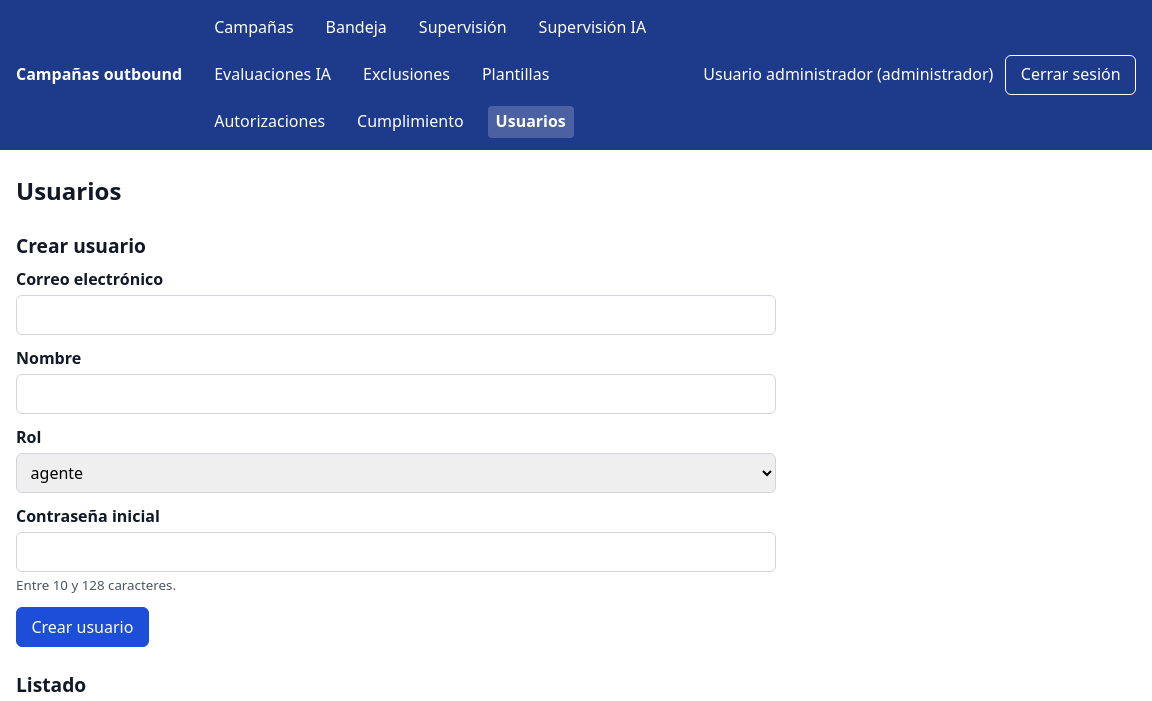
Test: Usuarios (solo administrador) › 409 EMAIL_DUPLICADO se muestra al crear
Type "a@empresa.co" into the field labelled "Correo electrónico" at (396, 315), box [16, 295, 776, 335]
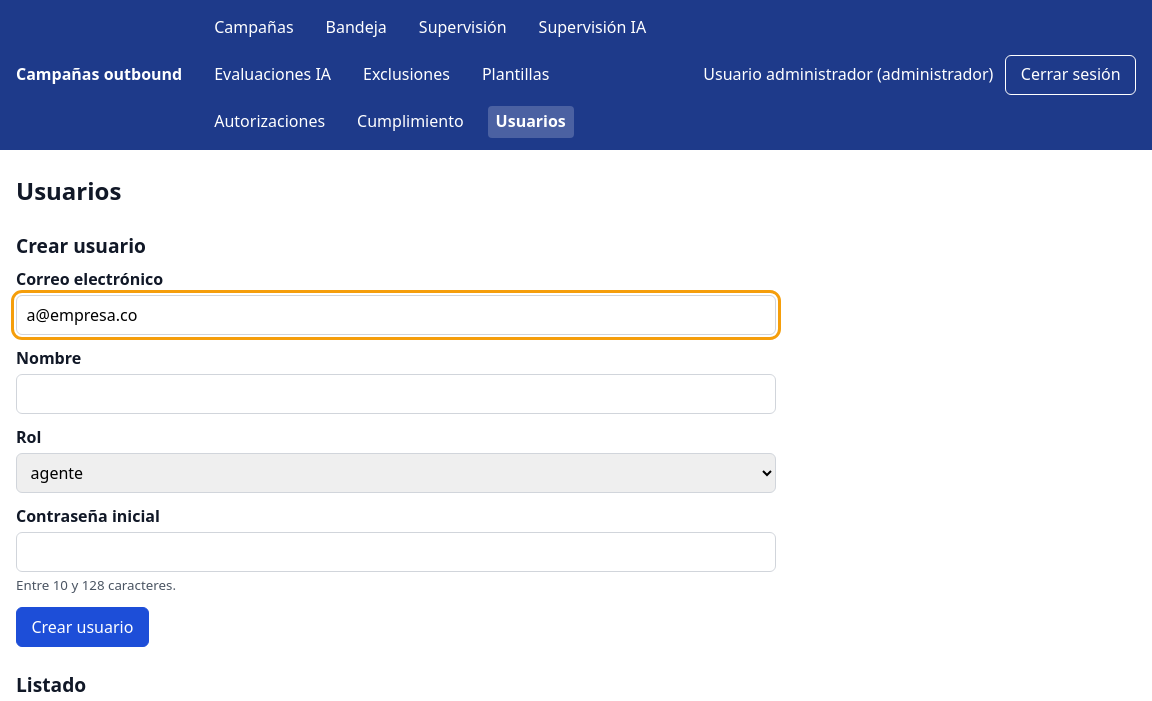
Type "Ana Gómez" into the field labelled "Nombre" at (396, 394), box [16, 374, 776, 414]
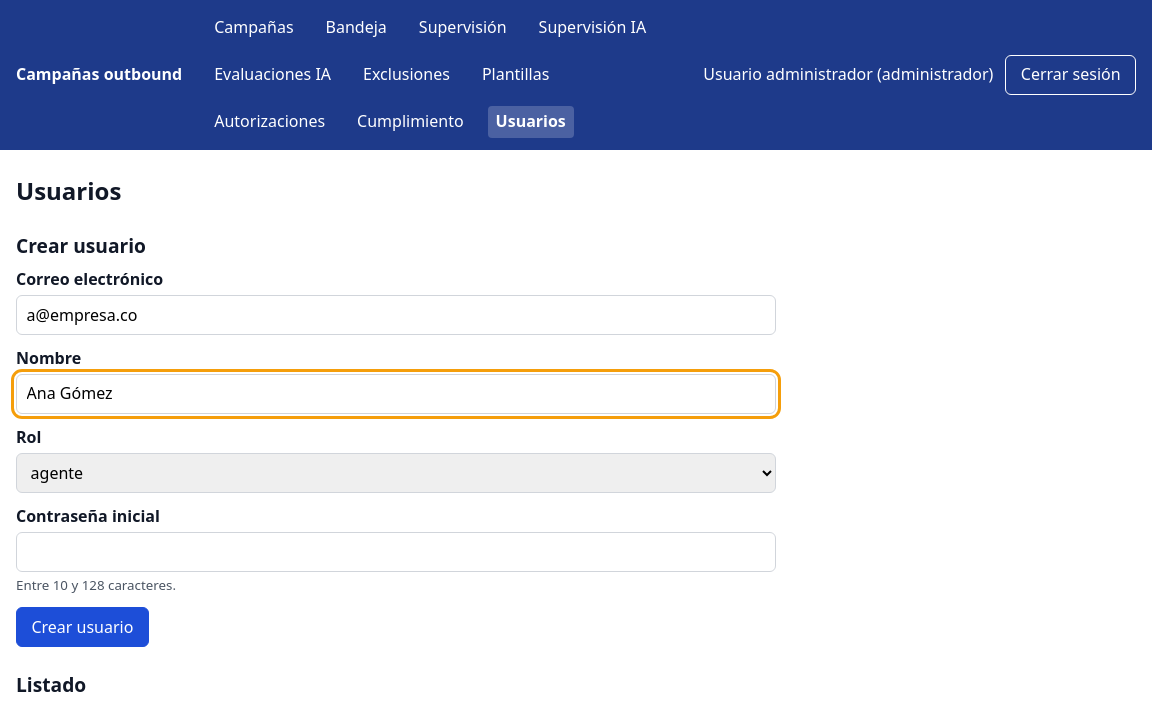
Type "ClaveSegura123" into the password field labelled "Contraseña inicial" at (396, 552), box [16, 532, 776, 572]
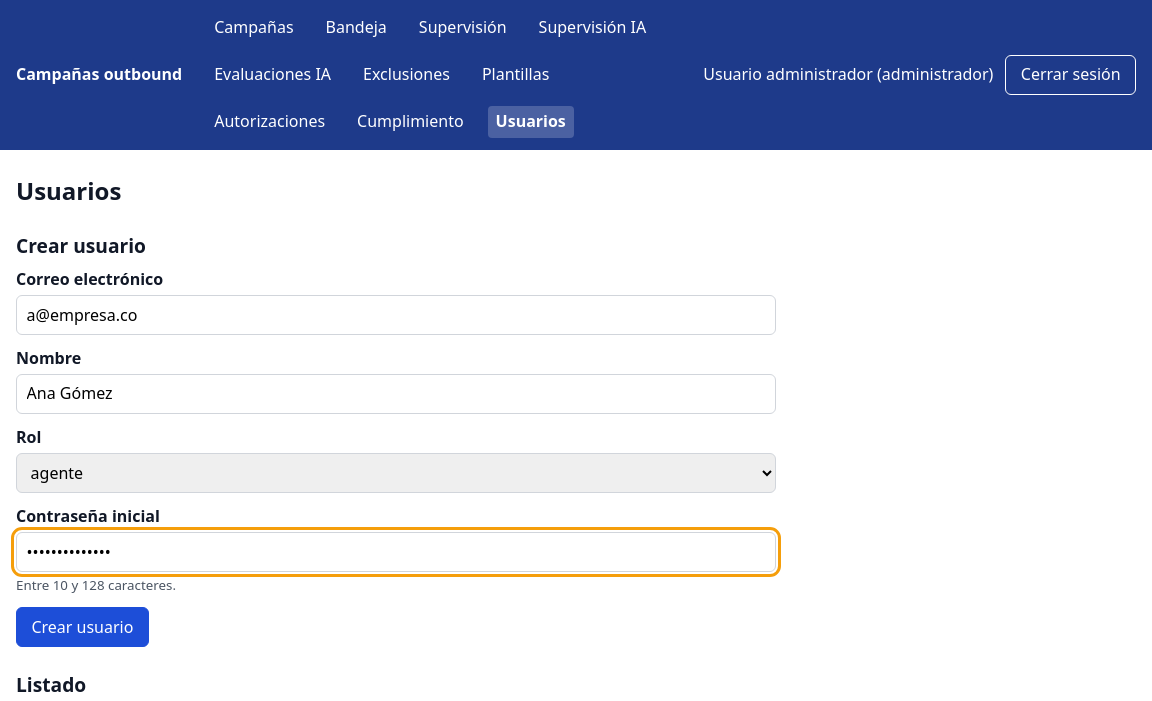
Click the button "Crear usuario" at (82, 627), box [16, 607, 149, 647]
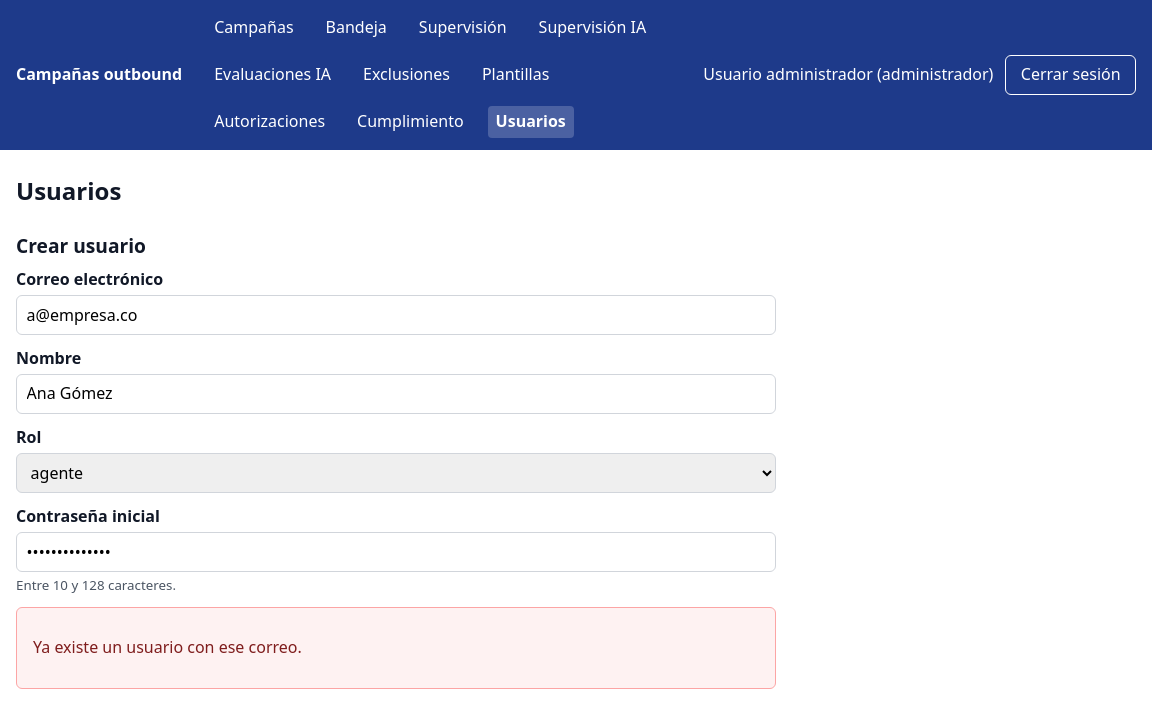
Check: the message reads "Ya existe un usuario con ese correo.", box [33, 636, 302, 658]
